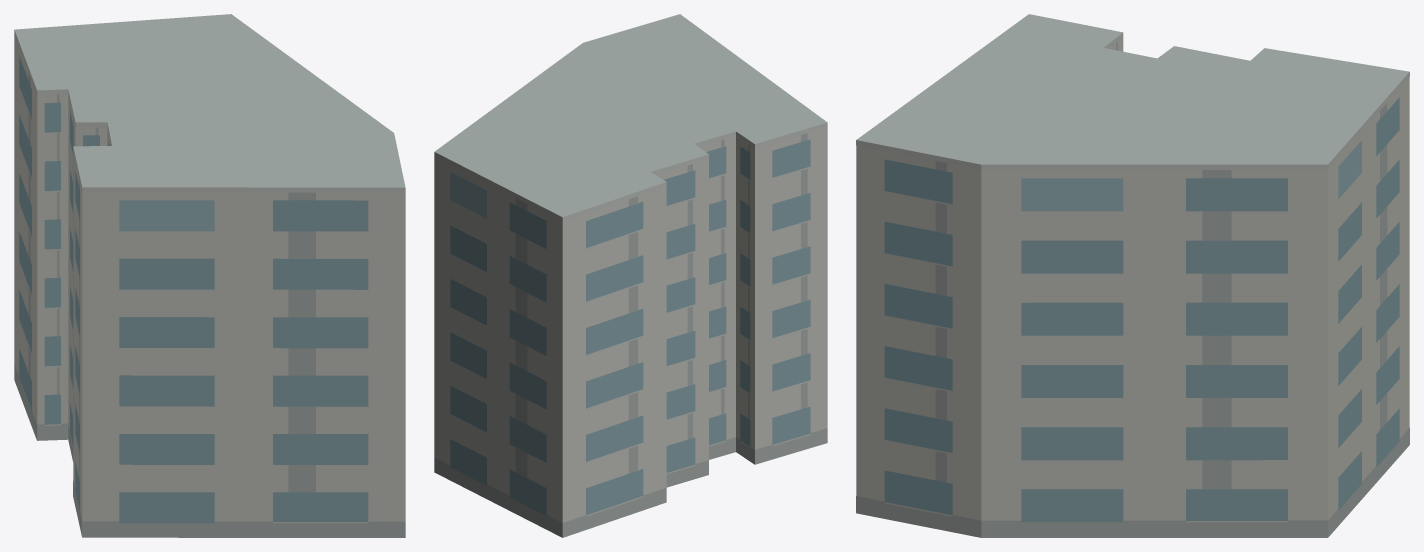
Rendered from survey-upis-32804175.glb.
3 renders of one model, left to right at view 1: azimuth 30°, elevation 25°; view 2: azimuth 150°, elevation 25°; view 3: azimuth 270°, elevation 25°, orthographic. The views are drawn at different scales.
Parts seen in each view (by area): view 1: survey-upis-32804175.tmp; view 2: survey-upis-32804175.tmp; view 3: survey-upis-32804175.tmp.
Boxes of the visible parts, bbox=[...] form: survey-upis-32804175.tmp: bbox=[14, 14, 405, 537]; survey-upis-32804175.tmp: bbox=[434, 14, 827, 537]; survey-upis-32804175.tmp: bbox=[856, 14, 1409, 537].
Bounding box in the file's own units: 14.59 × 16.84 × 22.65.
